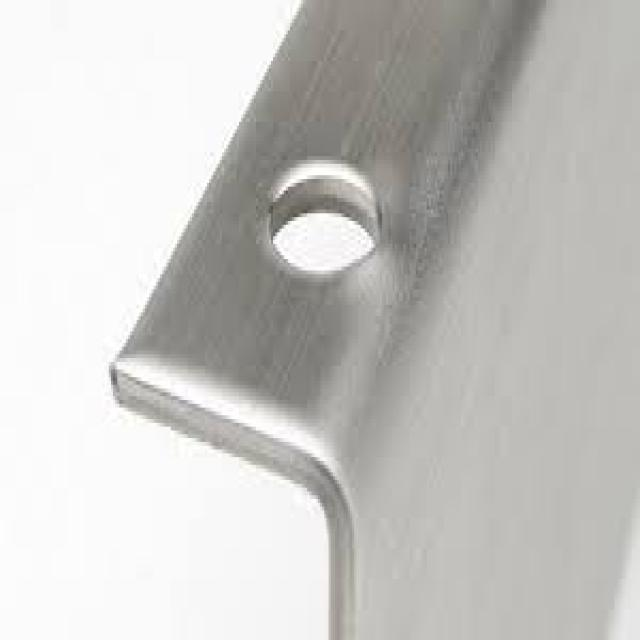holes: (265, 156, 382, 278)
